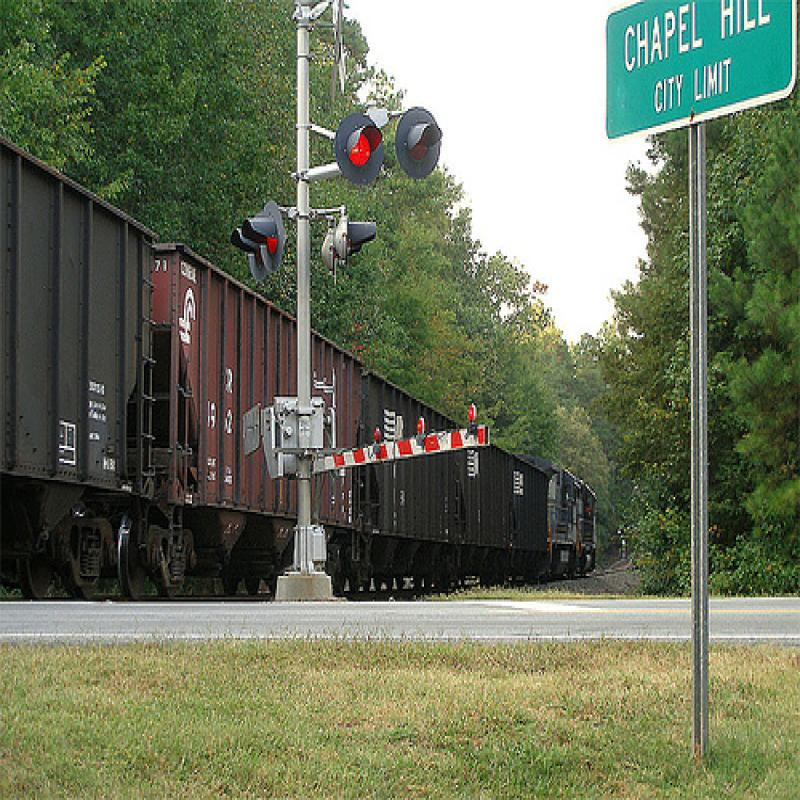train: (1, 133, 599, 602)
